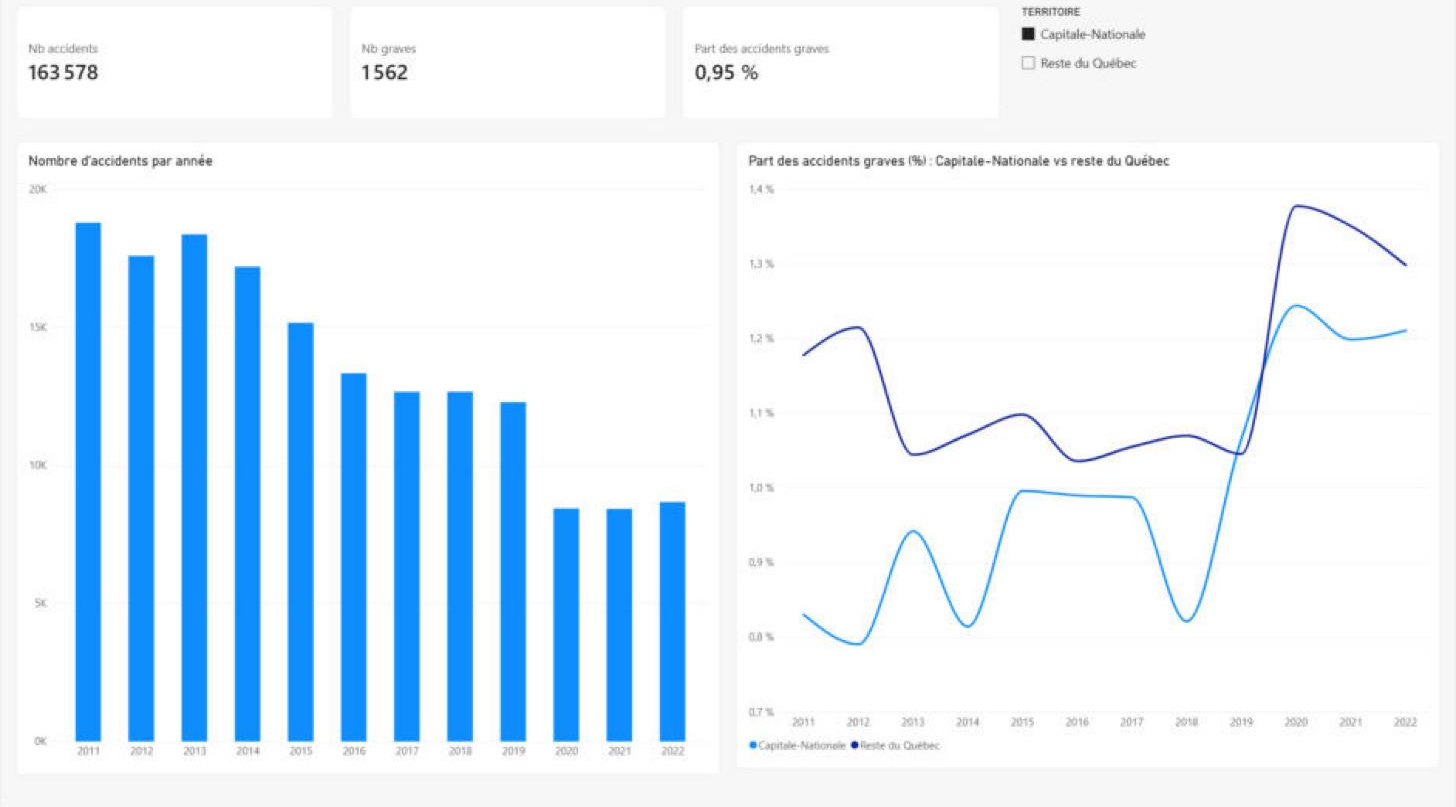

Layout of this report page (visuals, bound fields, positions):
{"tool":"powerbi","page":{"name":"Vue d'ensemble","canvas":[1920,1080],"ordinal":0},"visuals":[{"type":"cardVisual","fields":{"Data":["accidents_propre.Nb graves (affichage)"]},"box":[460,20,420,150],"z":0},{"type":"cardVisual","fields":{"Data":["accidents_propre.Nb accidents (affichage)"]},"box":[20,20,420,150],"z":1},{"type":"cardVisual","fields":{"Data":["accidents_propre.% graves"]},"box":[900,20,420,150],"z":2},{"type":"slicer","fields":{"Values":["accidents_propre.TERRITOIRE"]},"box":[1340,20,560,150],"z":3},{"type":"clusteredColumnChart","title":"Nombre d''accidents par année","fields":{"Category":["accidents_propre.AN"],"Y":["accidents_propre.Nb accidents"]},"box":[20,200,930,837],"z":4},{"type":"lineChart","title":"Part des accidents graves (%) : Capitale-Nationale vs reste du Québec","fields":{"Category":["accidents_propre.AN"],"Series":["accidents_propre.TERRITOIRE"],"Y":["accidents_propre.% graves"]},"box":[970,200,930,828],"z":5}]}

Visuals, with their boxes in screenshot pixels (x1, y1, x2, y2), scaled from the page's 1920x1080 canvas onto the 1456x807 screenshot:
cardVisual - accidents_propre.Nb graves (affichage): region(349, 15, 667, 127)
cardVisual - accidents_propre.Nb accidents (affichage): region(15, 15, 334, 127)
cardVisual - accidents_propre.% graves: region(682, 15, 1001, 127)
slicer - accidents_propre.TERRITOIRE: region(1016, 15, 1441, 127)
"Nombre d''accidents par année" clusteredColumnChart: region(15, 149, 720, 775)
"Part des accidents graves (%) : Capitale-Nationale vs reste du Québec" lineChart: region(736, 149, 1441, 768)
